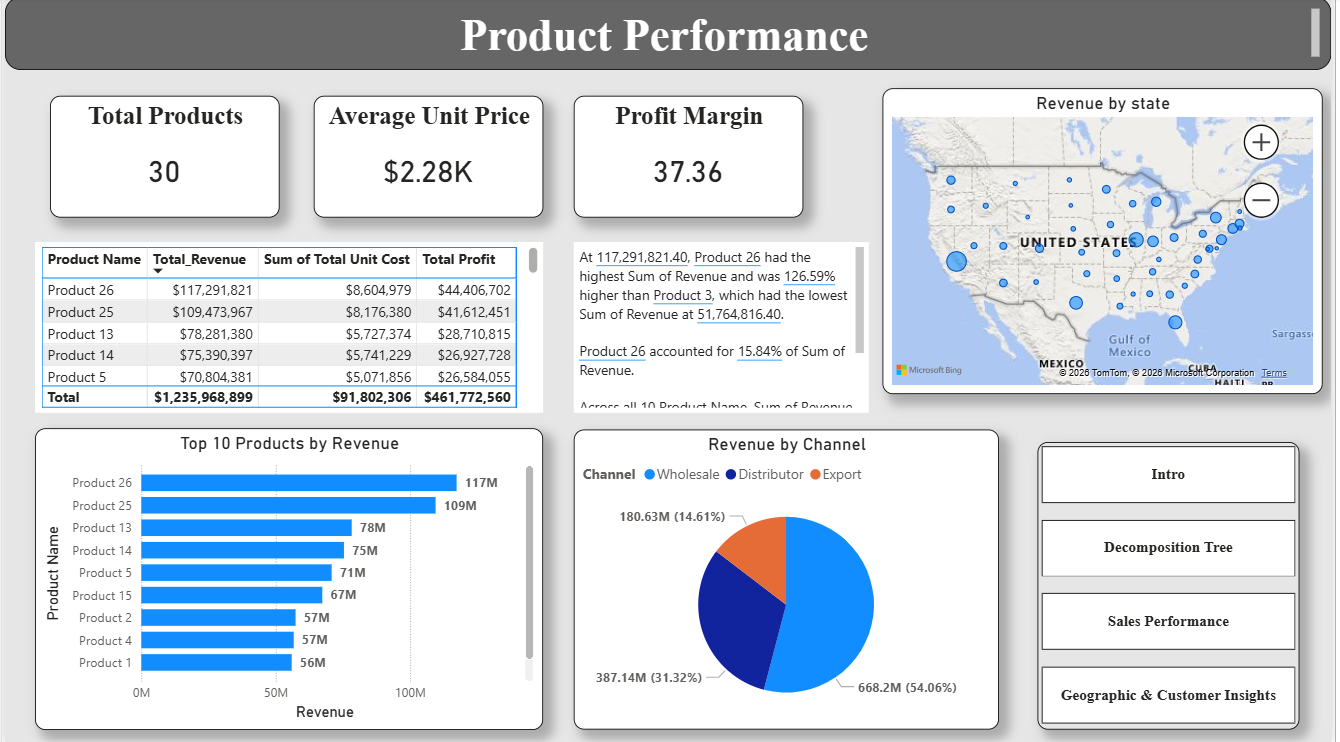

What the dashboard file says about the page in this screenshot:
{"tool":"powerbi","page":{"name":"Product Performance","canvas":[1280,720],"ordinal":3},"visuals":[{"type":"textbox","box":[0,0,1280,70],"z":0},{"type":"card","title":"Total Products","fields":{"Values":["Products_Data.Total_Products"]},"box":[52.9,77.7,222,117],"z":1000},{"type":"card","title":"Average Unit Price","fields":{"Values":["Avg(Sales_Data.Unit Price)"]},"box":[317.1,78.9,222,117],"z":2000},{"type":"card","title":"Profit Margin","fields":{"Values":["Measure.Profit_margin %"]},"box":[584.9,76.5,222,117],"z":3000},{"type":"clusteredBarChart","title":"Top 10 Products by Revenue","fields":{"Category":["Products_Data.Product Name"],"Y":["Sum(Sales_Data.Revenue)"]},"box":[28.4,419.7,491,290.8],"z":4000},{"type":"tableEx","title":"Product-wise Revenue Table","fields":{"Values":["Products_Data.Product Name","Measure.Total_Revenue","Sum(Sales_Data.Total Unit Cost)","Measure.Total Profit"]},"box":[28.4,202.6,491,208.7],"z":5000},{"type":"pageNavigator","box":[1005,453.6,238.9,243.7],"z":6000},{"type":"slicer","title":"Year","fields":{"Values":["Sales_Data.OrderDate.Variation.Date Hierarchy.Year"]},"box":[854.2,82,197.9,79.6],"z":7000},{"type":"slicer","title":"Region","fields":{"Values":["Regions.region"]},"box":[1066.5,82,194.2,72.4],"z":8000},{"type":"scatterChart","title":"High Margin Price Bands","fields":{"X":["Sales_Data.Unit Price"],"Y":["Measure.Profit_margin %"]},"box":[538.7,411.3,437.9,299.2],"z":9000},{"type":"textbox","box":[538.7,202.6,301.6,200.3],"z":10000},{"type":"donutChart","title":"Total Revenue by Region","fields":{"Y":["Measure.Total_Revenue"],"Category":["Regions.region"]},"box":[857.1,170,412.9,232.9],"z":11000}]}

Visuals, with their boxes in screenshot pixels (x1, y1, x2, y2), scaled from the page's 1280x720 canvas onto the 1340x742 screenshot:
textbox: Rect(0, 0, 1339, 72)
"Total Products" card: Rect(55, 80, 288, 201)
"Average Unit Price" card: Rect(332, 81, 564, 202)
"Profit Margin" card: Rect(612, 79, 845, 199)
"Top 10 Products by Revenue" clusteredBarChart: Rect(30, 433, 544, 732)
"Product-wise Revenue Table" tableEx: Rect(30, 209, 544, 424)
pageNavigator: Rect(1052, 467, 1302, 719)
"Year" slicer: Rect(894, 85, 1101, 167)
"Region" slicer: Rect(1116, 85, 1320, 159)
"High Margin Price Bands" scatterChart: Rect(564, 424, 1022, 732)
textbox: Rect(564, 209, 880, 415)
"Total Revenue by Region" donutChart: Rect(897, 175, 1330, 415)
